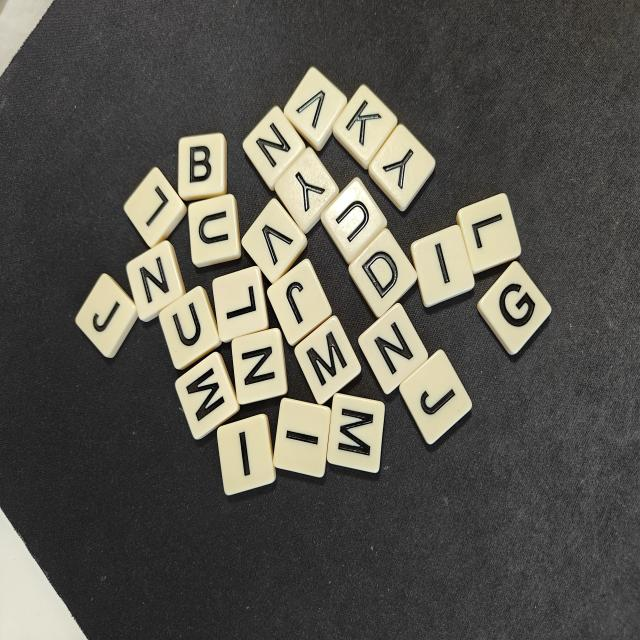b: (178, 133, 227, 201)
d: (349, 229, 417, 318)
g: (477, 262, 551, 355)
i: (411, 225, 474, 307), (217, 414, 275, 495), (273, 398, 330, 477)
j: (399, 349, 472, 444), (267, 259, 332, 345), (76, 273, 138, 358)
k: (332, 85, 397, 169)
l: (456, 194, 521, 274), (124, 167, 187, 247), (212, 266, 269, 342)
m: (295, 315, 361, 404), (175, 352, 240, 439), (327, 393, 385, 473)
n: (358, 303, 428, 394), (243, 106, 305, 190), (127, 240, 185, 322), (231, 328, 288, 405)
u: (321, 178, 387, 263), (159, 286, 221, 369), (188, 194, 241, 267)
v: (241, 199, 307, 283), (284, 67, 347, 151)
y: (368, 125, 435, 211), (275, 147, 339, 234)
